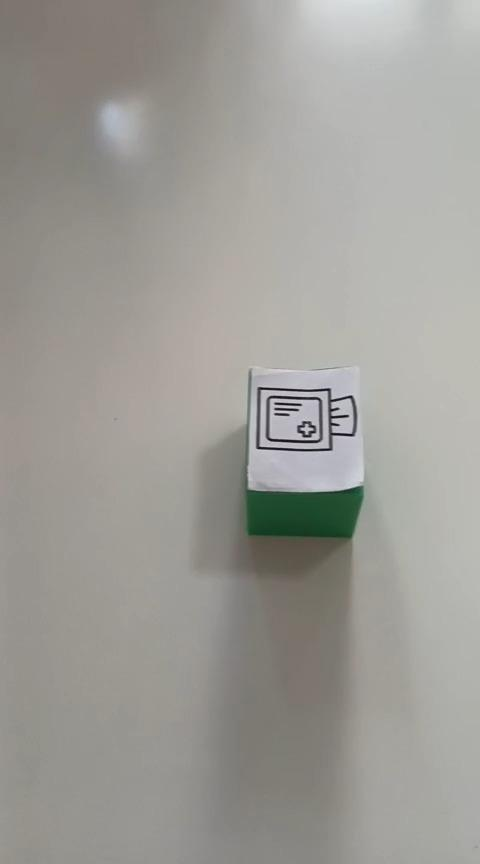Gauze: (243, 364, 365, 538)
